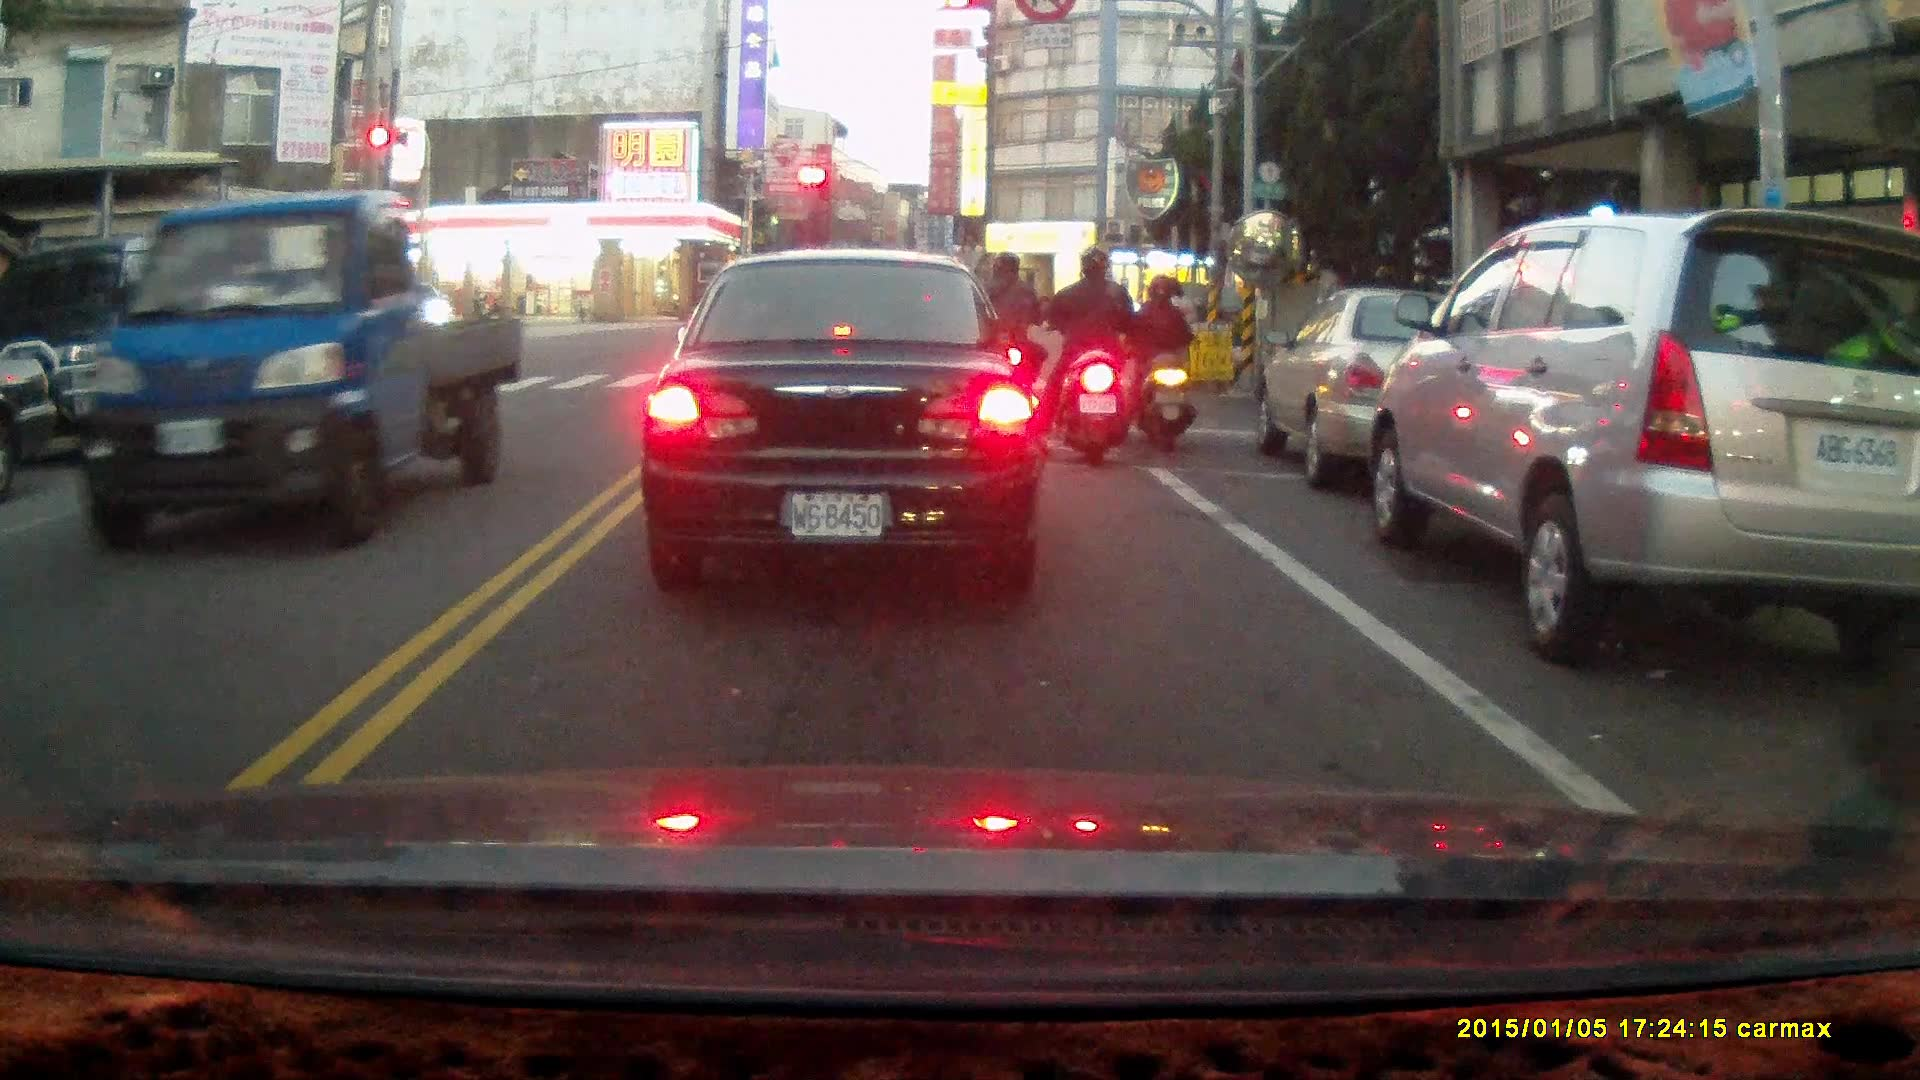rider: (1036, 249, 1140, 465), (965, 255, 1046, 433), (1125, 276, 1194, 451)
vehicle: (1358, 216, 1914, 659), (66, 187, 513, 553), (639, 250, 1042, 596), (1254, 284, 1550, 493), (6, 235, 266, 456)
